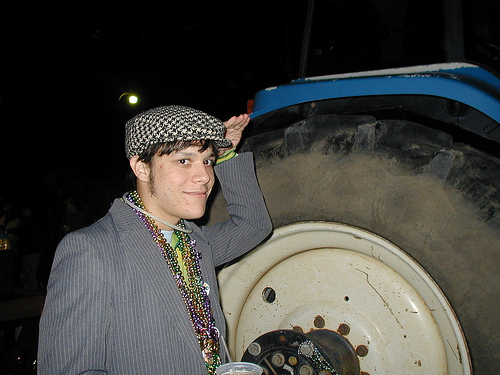without_mask: (129, 134, 221, 223)
